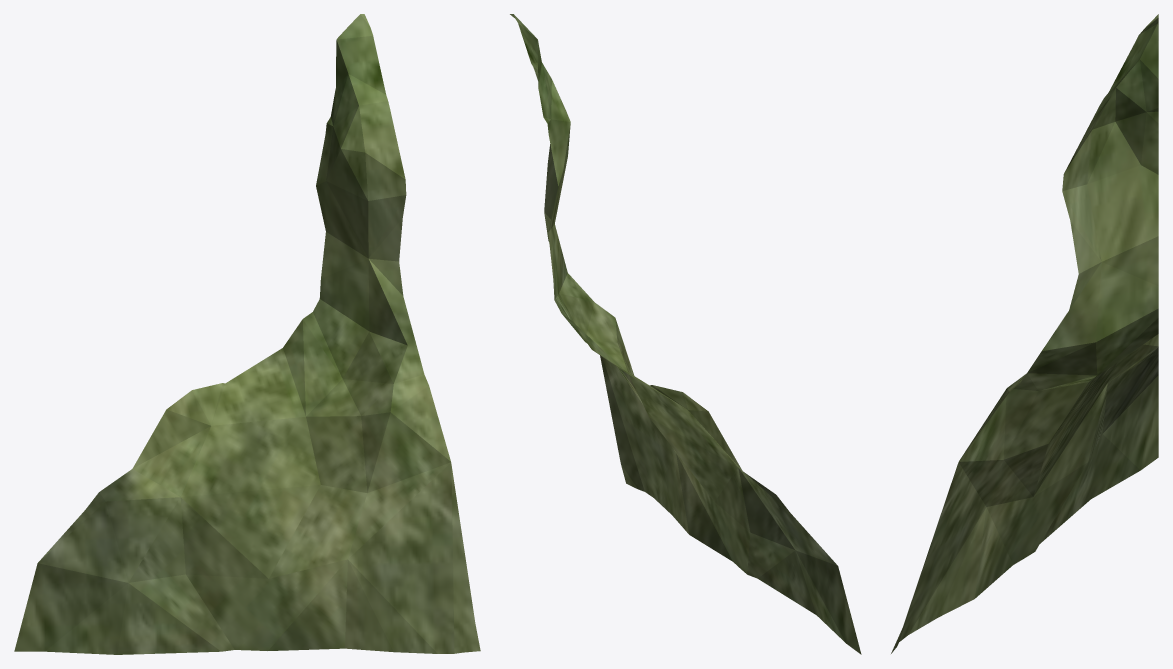
3 renders of one model, left to right at view 1: azimuth 30°, elevation 25°; view 2: azimuth 150°, elevation 25°; view 3: azimuth 270°, elevation 25°, orthographic. The views are drawn at different scales.
Bounding box in the file's own units: 1.67 × 2.51 × 0.9564.
1 material, 1 textured.
